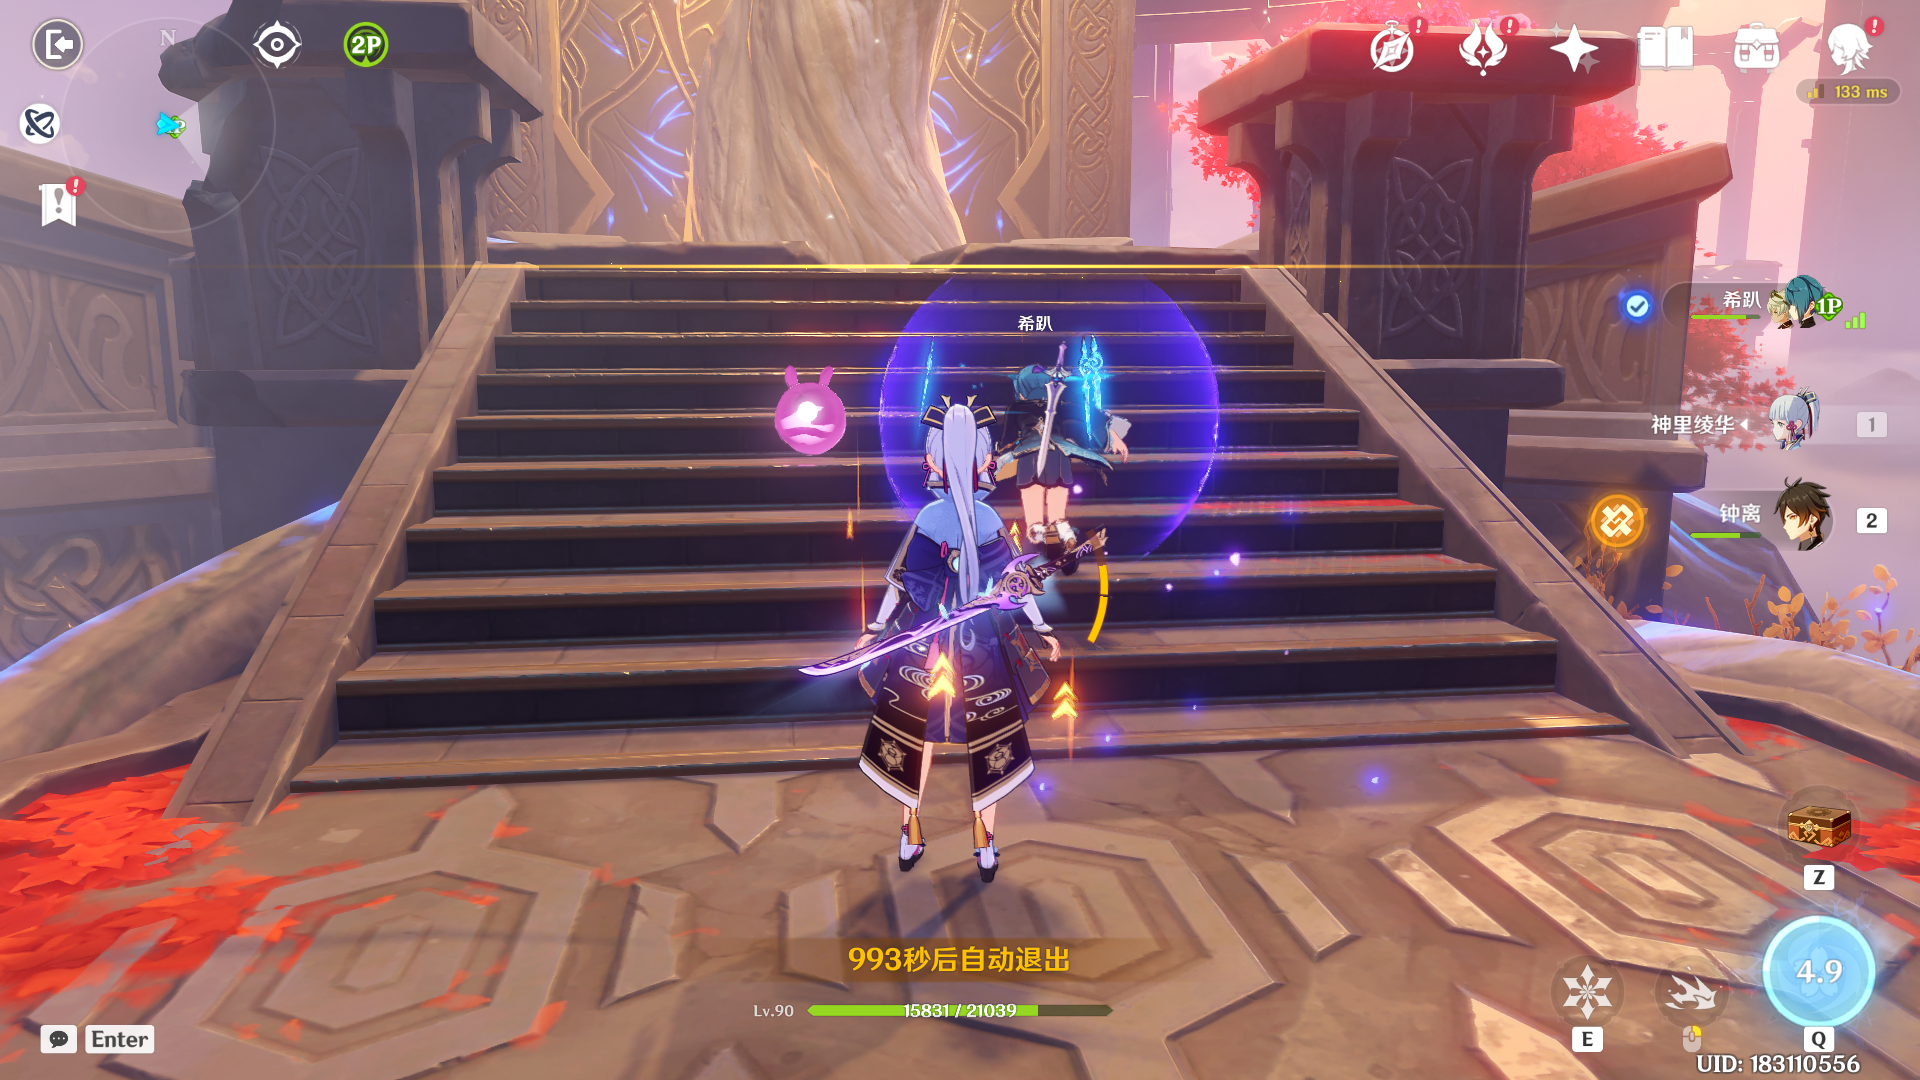character: (815, 367, 1101, 927), (972, 338, 1147, 582)
